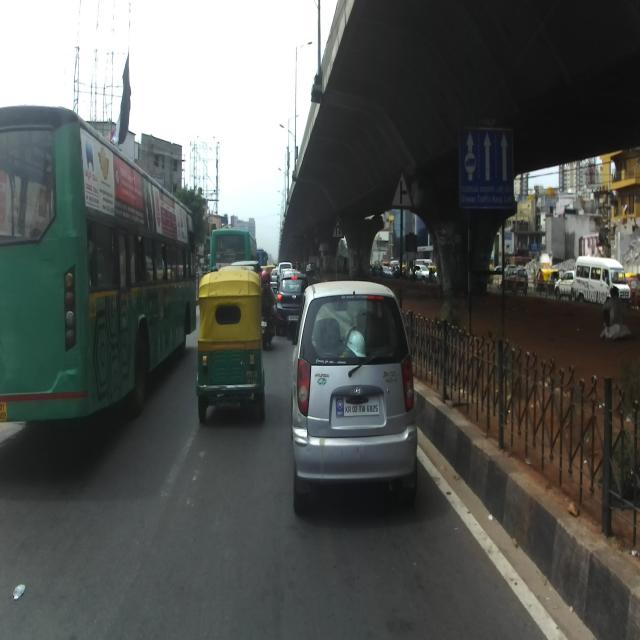autorickshaw: (195, 271, 265, 424)
bus: (0, 104, 196, 424), (208, 228, 256, 270)
car: (286, 280, 418, 514), (274, 270, 310, 334)
mini-bus: (573, 257, 630, 302)
